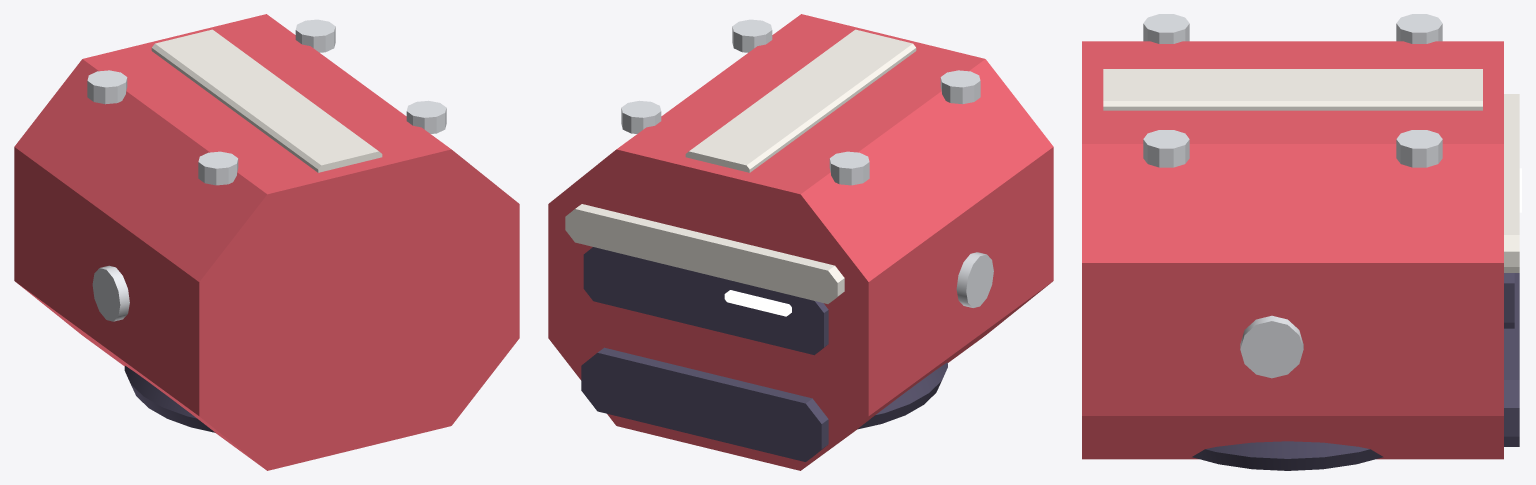
Rendered from driver_head_tank.glb.
3 views of the same model, side by side, from view 1: azimuth 30°, elevation 25°; view 2: azimuth 150°, elevation 25°; view 3: azimuth 270°, elevation 25° (orthographic). The views are drawn at different scales.
Parts seen in each view (by area): view 1: head_tank_helmet, head_tank_helmet_trim, head_tank_chrome, head_tank_trim; view 2: head_tank_helmet, head_tank_helmet_trim, head_tank_trim, head_tank_visor, head_tank_chrome, head_tank_glint; view 3: head_tank_helmet, head_tank_helmet_trim, head_tank_chrome, head_tank_trim, head_tank_visor.
Boxes of the visible parts, x1,y1,x2,y2 form: head_tank_helmet: [14, 14, 519, 470]; head_tank_helmet_trim: [151, 29, 382, 172]; head_tank_chrome: [87, 19, 446, 321]; head_tank_trim: [124, 366, 215, 432]; head_tank_helmet: [548, 14, 1053, 470]; head_tank_helmet_trim: [565, 29, 916, 303]; head_tank_trim: [581, 347, 947, 461]; head_tank_visor: [583, 247, 828, 355]; head_tank_chrome: [621, 19, 993, 307]; head_tank_glint: [724, 290, 791, 316]; head_tank_helmet: [1082, 41, 1503, 459]; head_tank_helmet_trim: [1103, 69, 1519, 272]; head_tank_chrome: [1143, 14, 1442, 378]; head_tank_trim: [1192, 273, 1519, 470]; head_tank_visor: [1504, 273, 1514, 328].
Bounding box in the file's own units: 0.4876 × 0.3956 × 0.4796.
